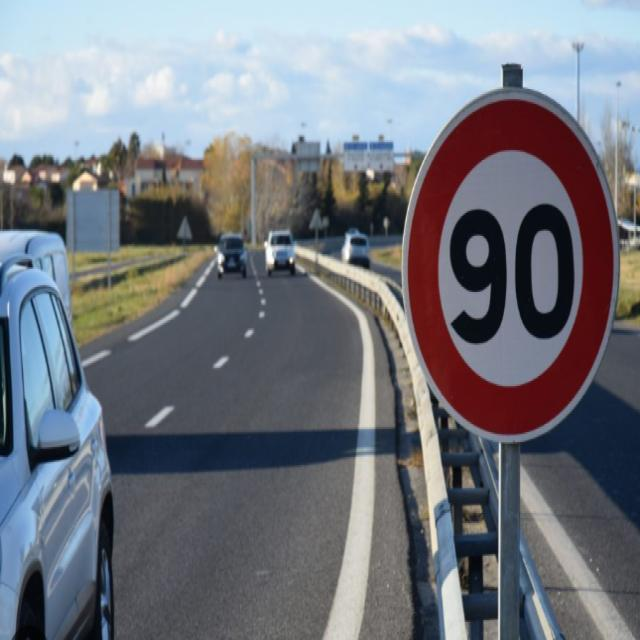speed_90: (399, 86, 620, 443)
